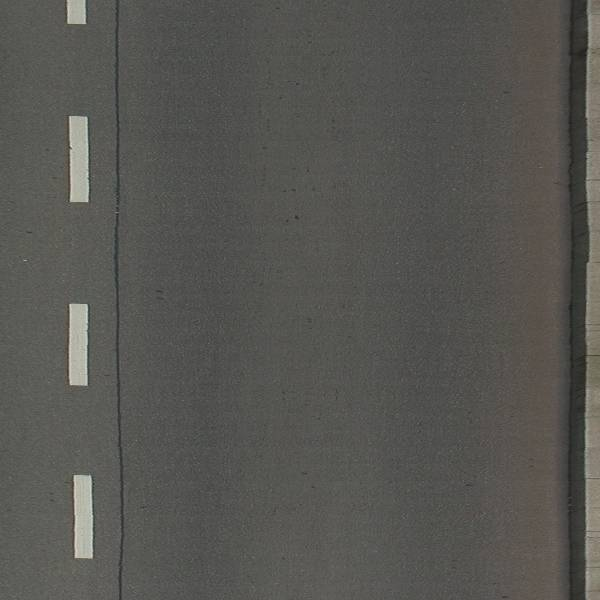road_damage: (102, 3, 128, 600)
